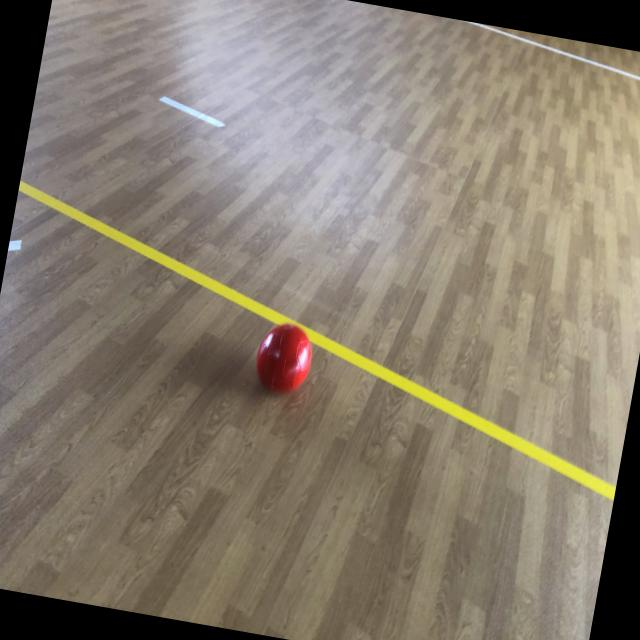red_ball: (250, 317, 318, 399)
